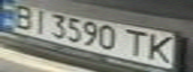0: (96, 22, 121, 52)
3: (45, 11, 69, 40)
5: (63, 16, 84, 44)
9: (78, 19, 100, 47)
B: (6, 1, 39, 30)
I: (27, 6, 51, 34)
K: (142, 32, 181, 63)
T: (121, 27, 151, 58)
